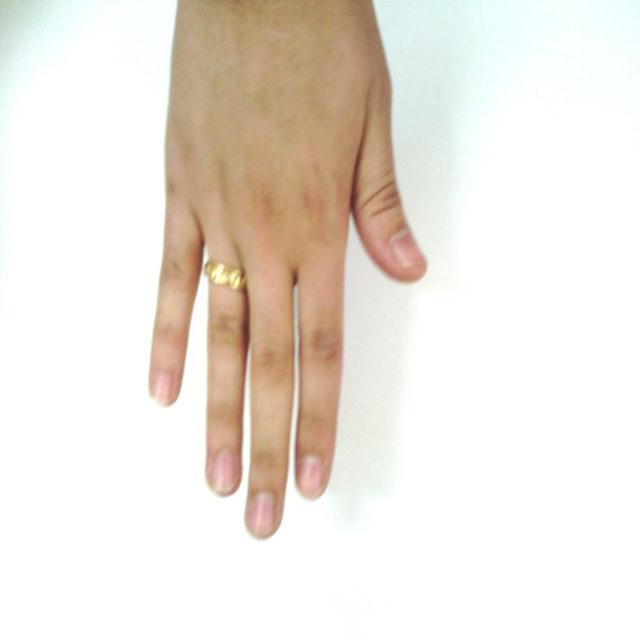Fingernail: (391, 231, 424, 268), (248, 494, 275, 537), (211, 451, 237, 495), (298, 457, 322, 499), (153, 373, 171, 404)
